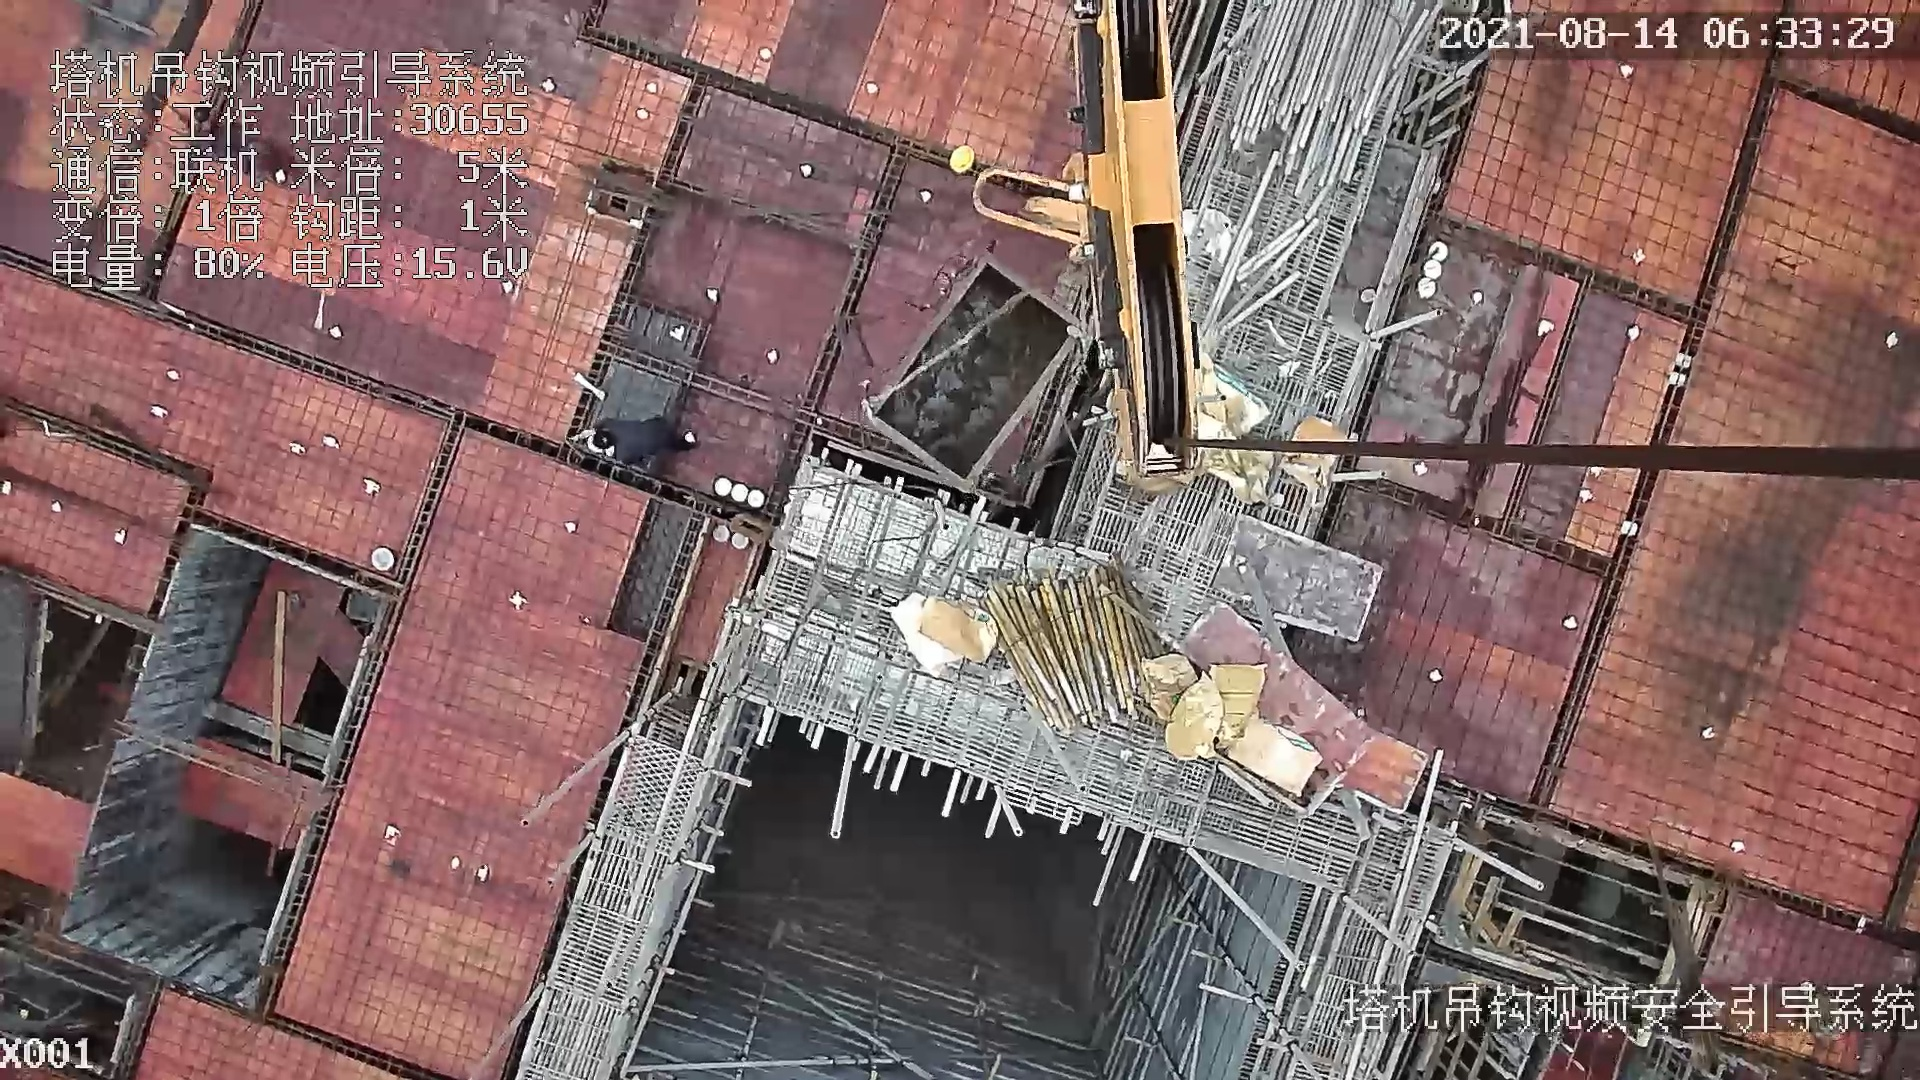helmet: (947, 146, 977, 173)
hook: (970, 1, 1203, 463)
hopper: (858, 242, 1094, 494)
person: (570, 406, 696, 478)
scaffold: (1238, 4, 1409, 194), (976, 553, 1159, 722)
